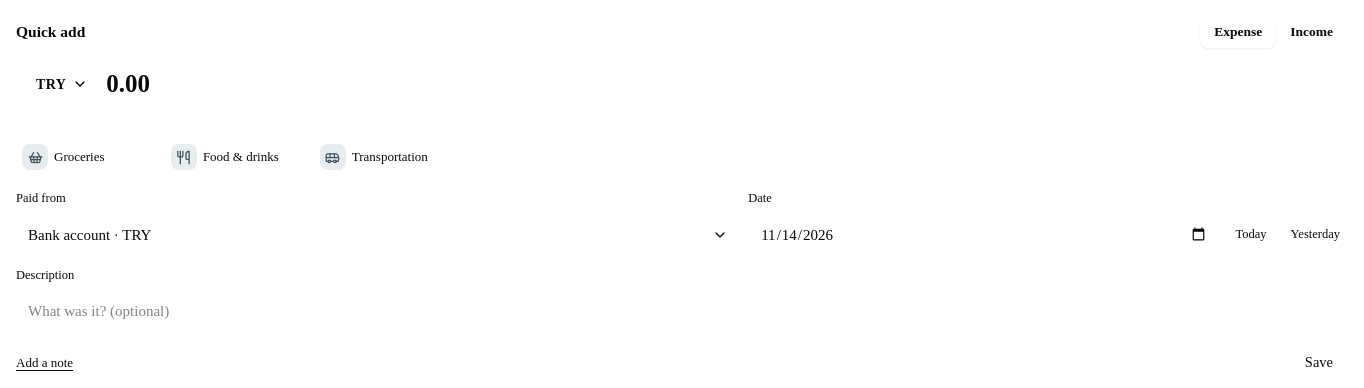
Test: Quick Add defaults › asks for a category when none was used before
Click the button "Income" at (1312, 32), box x1=1276 y1=16 x2=1347 y2=48
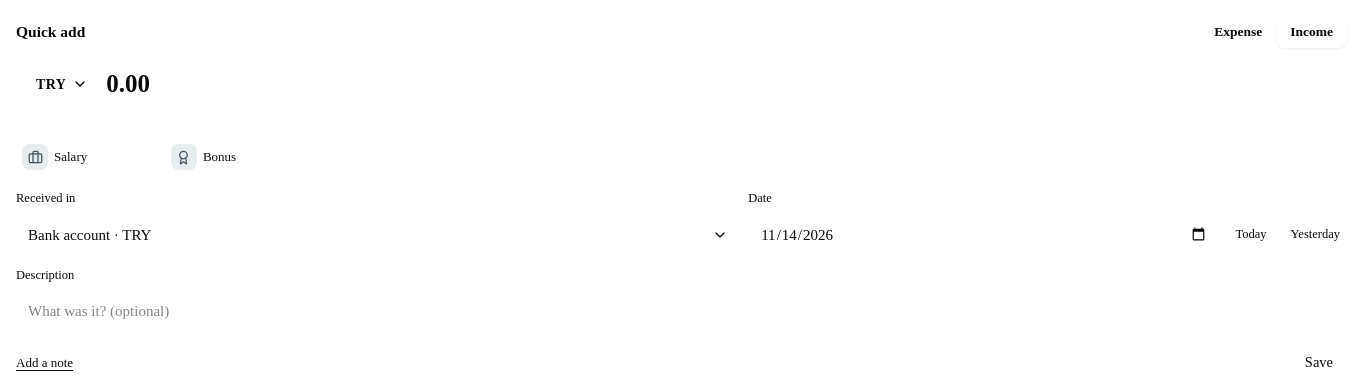
Expected: the dropdown named "Received in" is shown, x1=16 y1=214 x2=738 y2=256
Expected: the radio button labelled "Salary" is not checked, x1=22 y1=144 x2=87 y2=170
Expected: the radio button labelled "Bonus" is not checked, x1=171 y1=144 x2=236 y2=170
